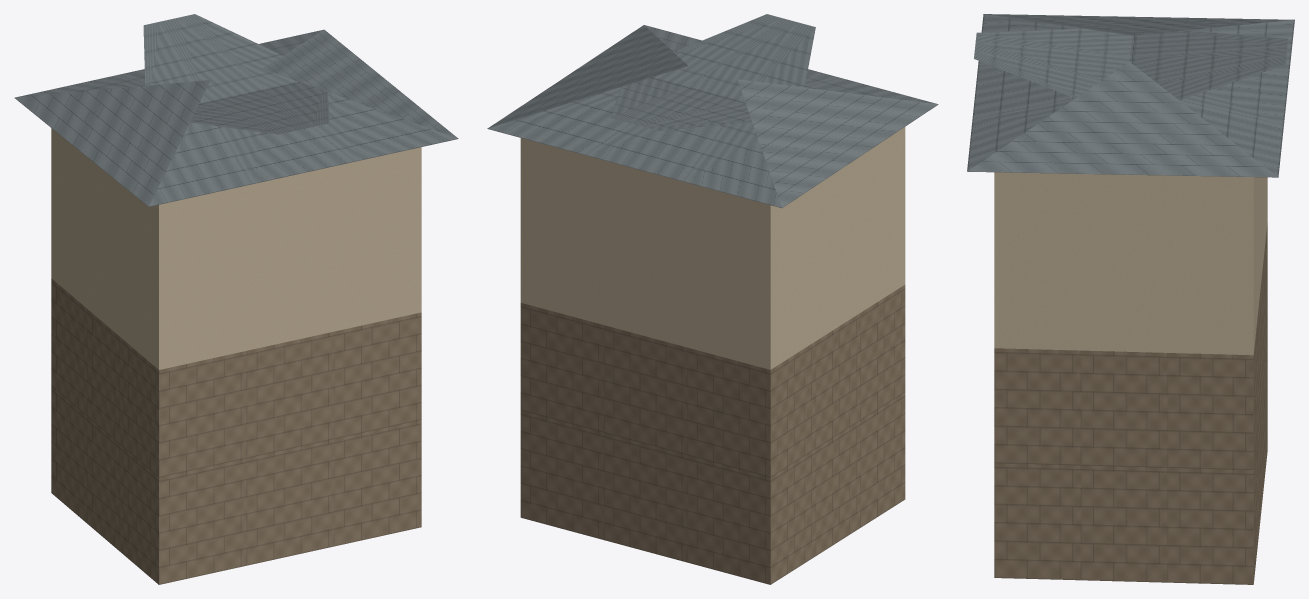
Rendered from bld_c22_47_396.gltf.
The picture shows the model from 3 angles, left to right: view 1: azimuth 30°, elevation 25°; view 2: azimuth 150°, elevation 25°; view 3: azimuth 270°, elevation 25°; orthographic projection. The views are drawn at different scales.
Visible parts, largest first — view 1: bld_c22_47_396; view 2: bld_c22_47_396; view 3: bld_c22_47_396.
Boxes of the visible parts, left/top/right/bottom form: bld_c22_47_396: left=14, top=14, right=458, bottom=584; bld_c22_47_396: left=487, top=14, right=938, bottom=584; bld_c22_47_396: left=967, top=14, right=1294, bottom=584.
Bounding box in the file's own units: 7.46 × 9.9 × 6.32.
3 materials, 3 textured.
